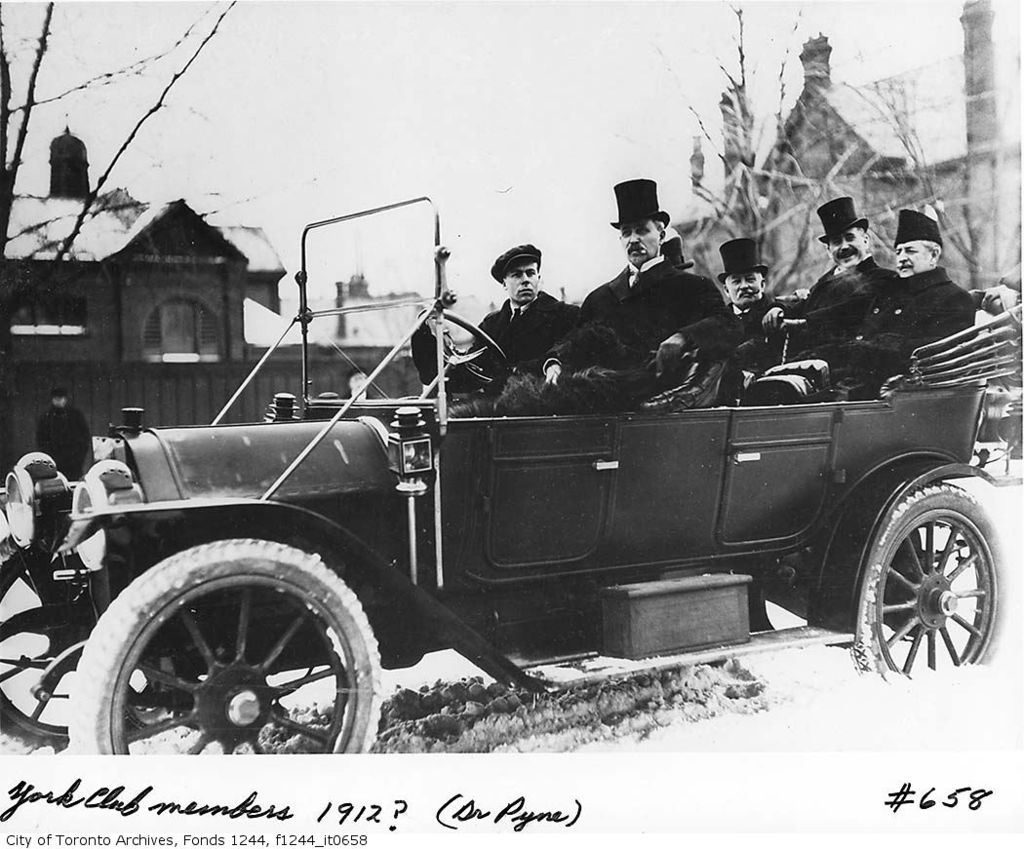Person: (31, 386, 89, 538), (31, 388, 91, 481)
